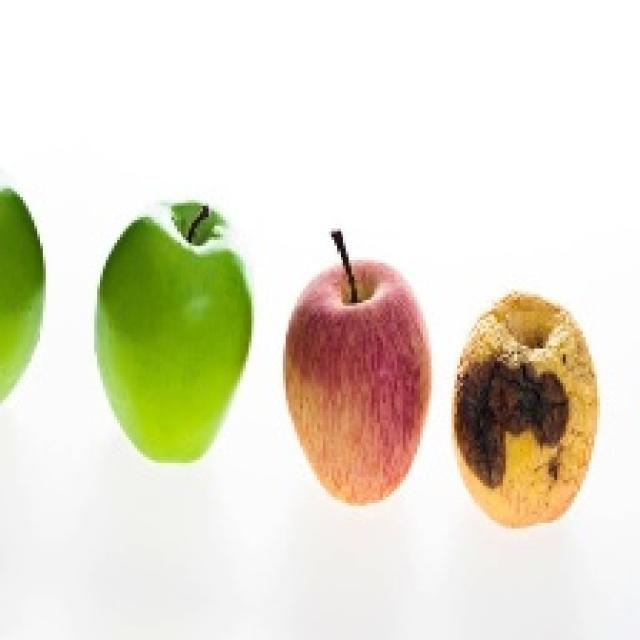rotten_apple: (459, 297, 595, 530)
